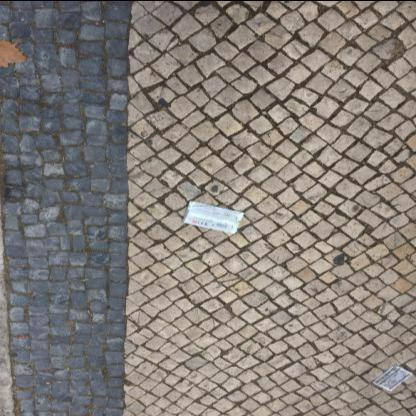Paper: (372, 366, 413, 392)
Plastic bag - wrapper: (182, 200, 245, 233)
